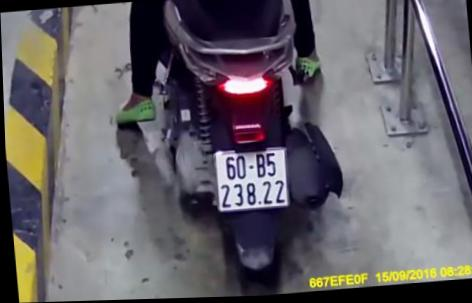LP: (210, 145, 289, 215)
